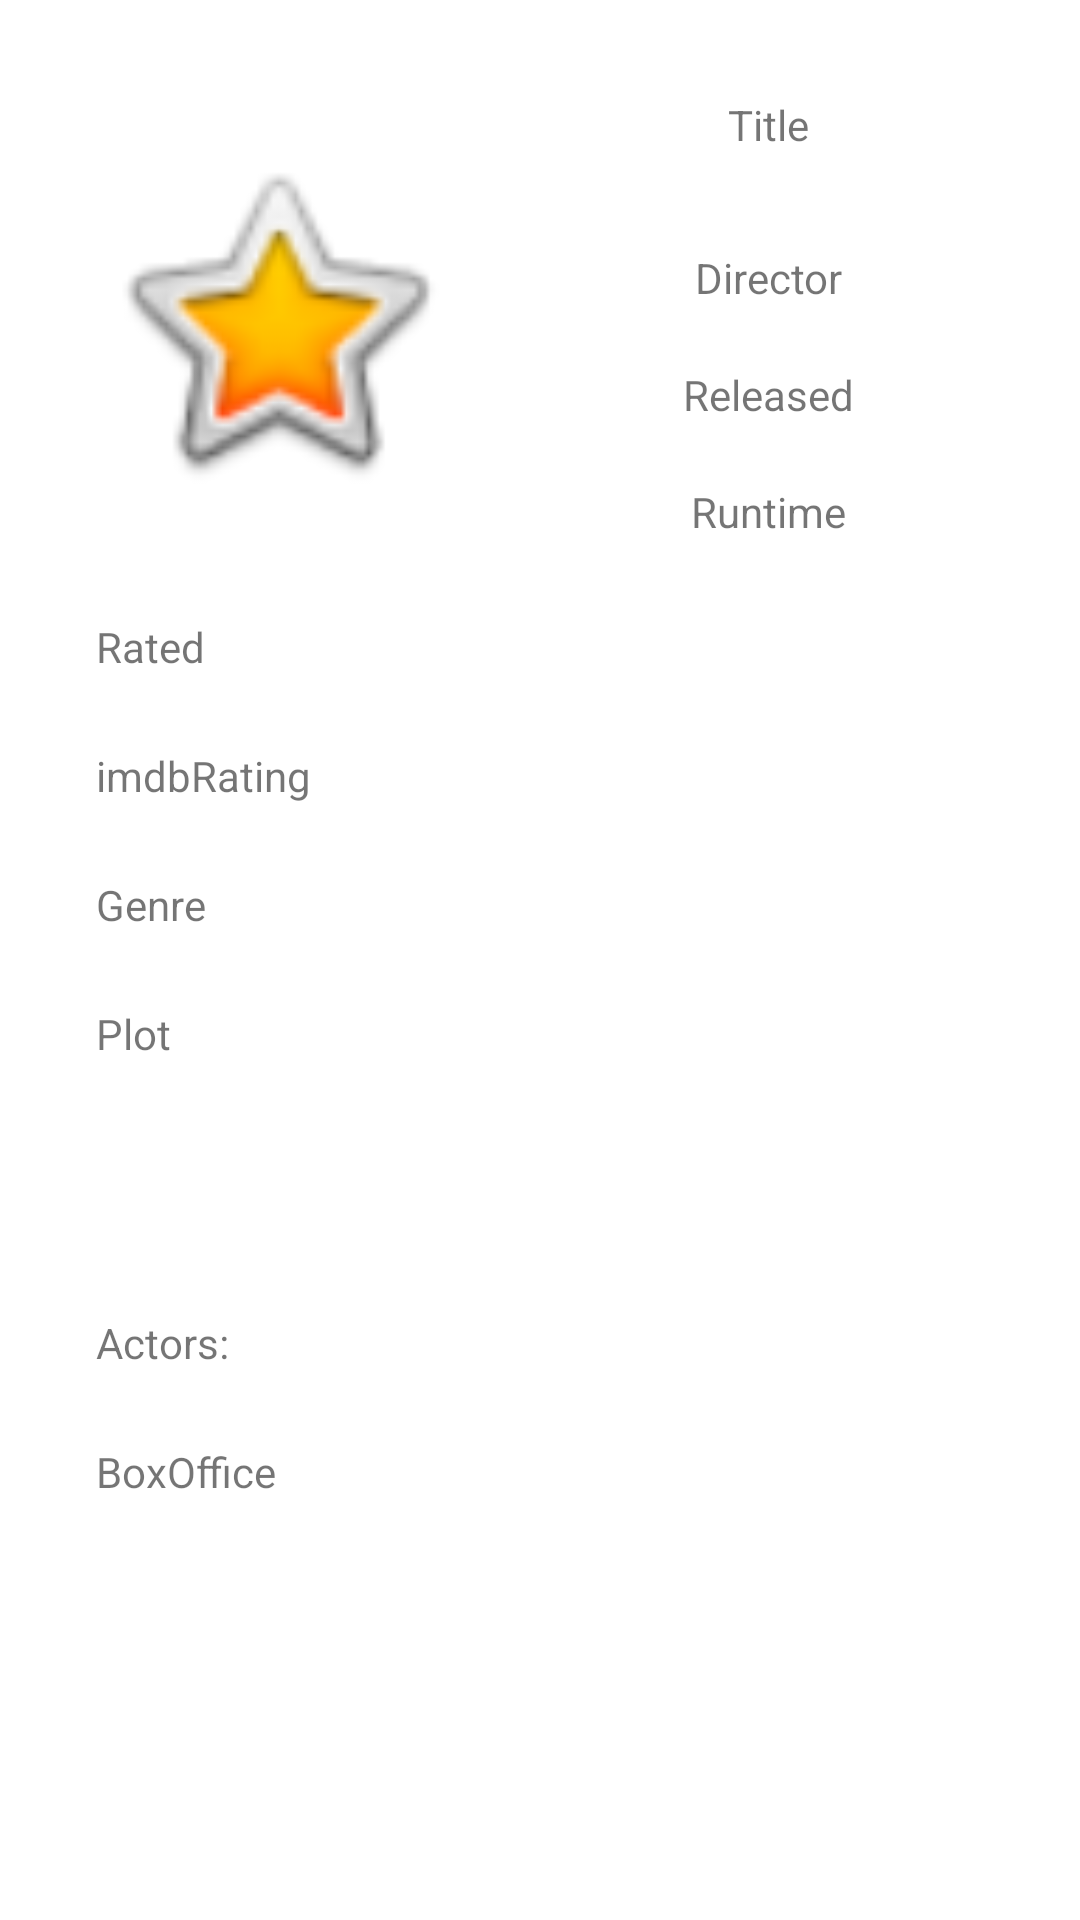

Screen size 1080w x 1920h. Icon name, then its center in pixels as point (x, y):
star on: point (279, 323)
